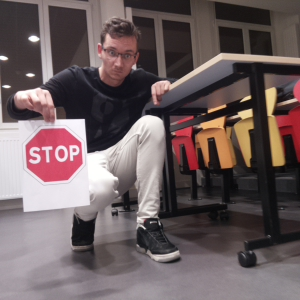stop: (24, 126, 85, 184)
